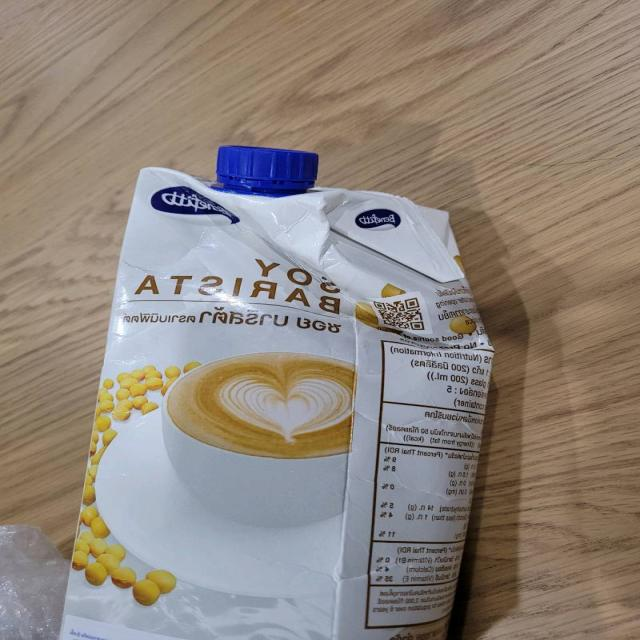cardboard: (61, 141, 485, 640)
